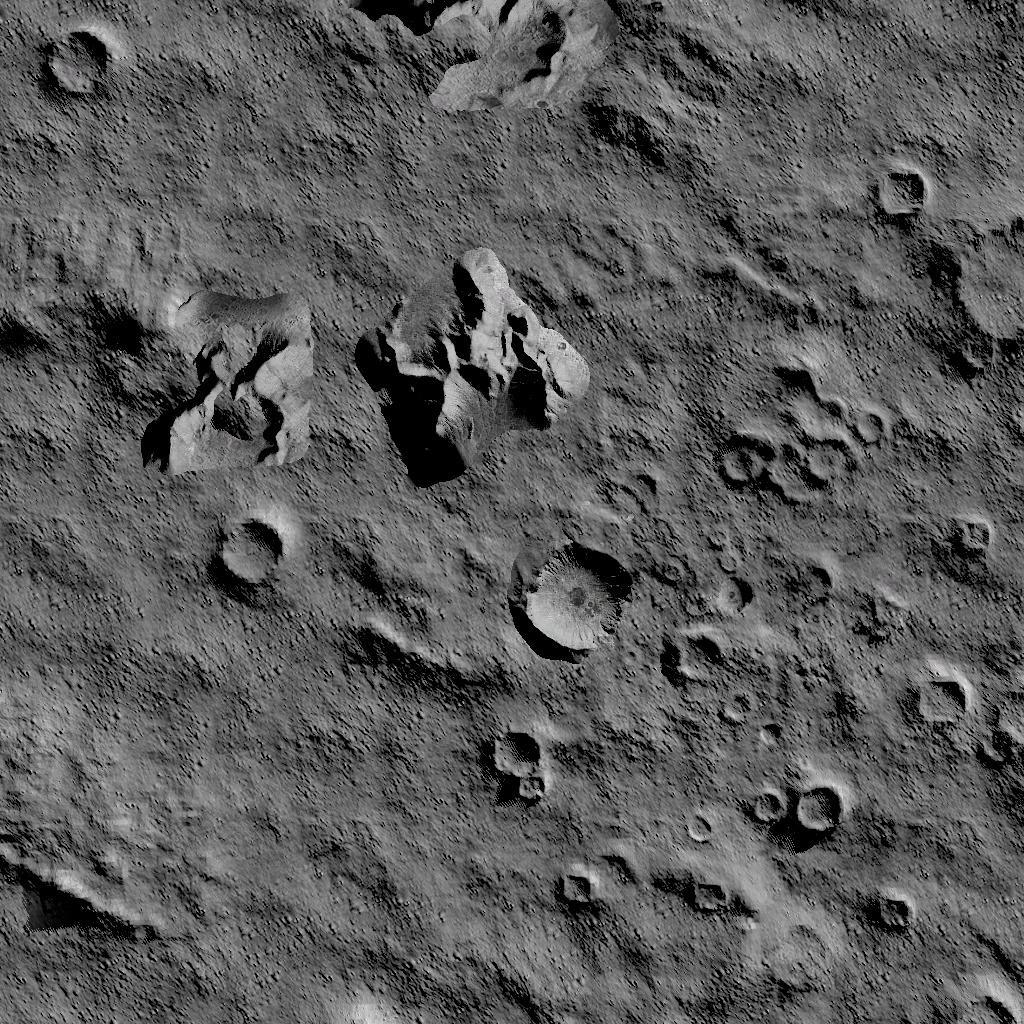Boulders: (351, 242, 588, 481), (134, 278, 310, 473), (384, 0, 607, 108)
Crater: (712, 354, 880, 496), (519, 540, 636, 652), (947, 196, 1024, 345), (210, 518, 288, 595), (34, 30, 116, 100), (747, 784, 845, 833), (486, 720, 551, 793), (932, 967, 1015, 1024), (974, 670, 1024, 754), (870, 161, 934, 219), (908, 667, 966, 721), (662, 624, 724, 674), (946, 507, 998, 553), (712, 566, 758, 607), (552, 863, 596, 905), (869, 886, 914, 924), (688, 878, 733, 913), (682, 804, 716, 840), (725, 684, 751, 716)
Plan surface: (211, 652, 479, 954), (0, 488, 197, 807), (121, 0, 373, 192)
